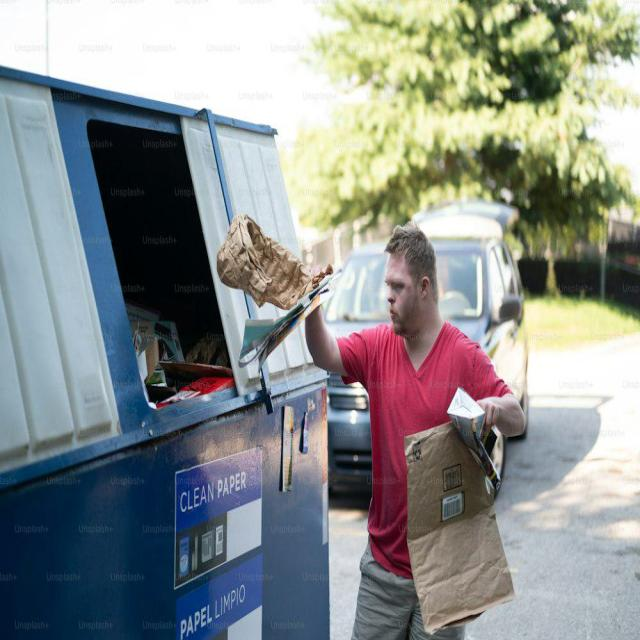paper: (390, 416, 510, 630), (212, 207, 317, 304), (241, 312, 316, 368)
trash: (126, 278, 221, 399)
